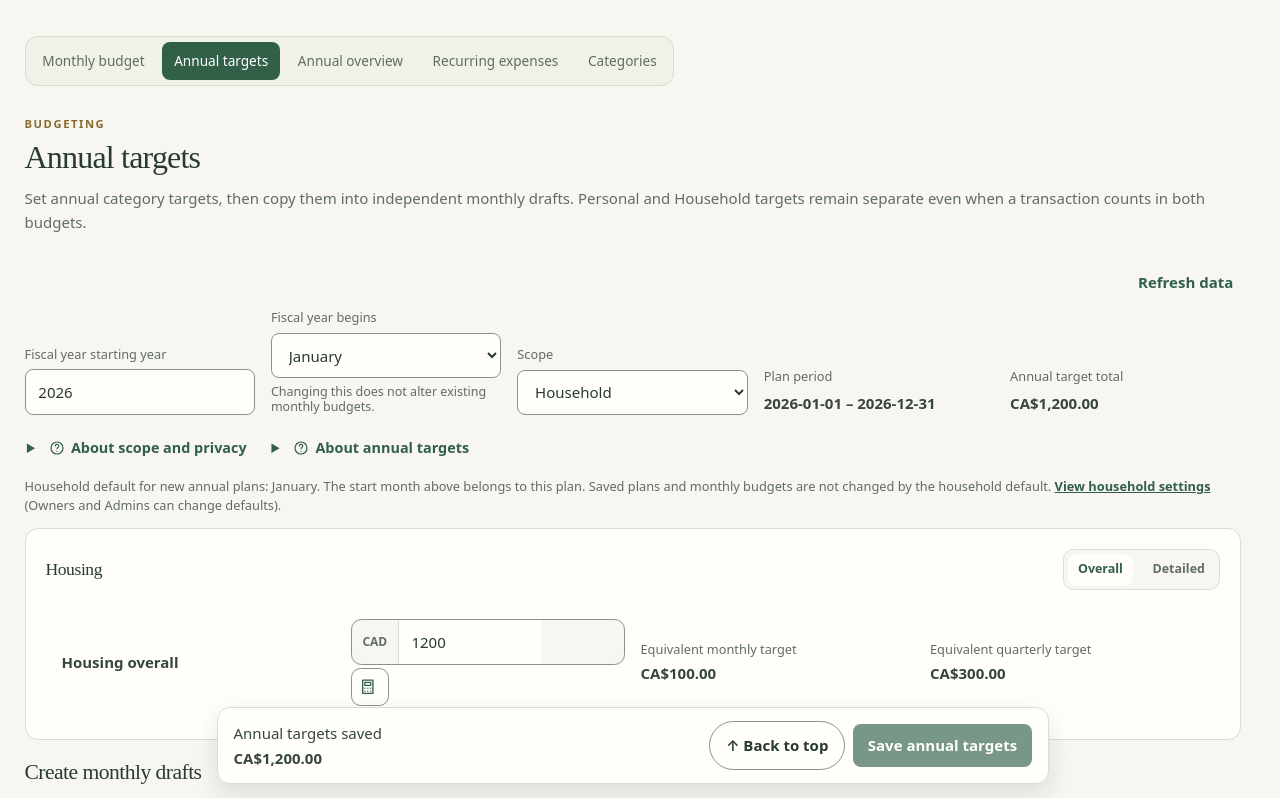
Test case: annual target action placement › releases the annual host when a changed scope fails to load
(page scrolled)
Select "Personal" in the dropdown labelled "Scope" at (632,392), box [517,370,748,415]
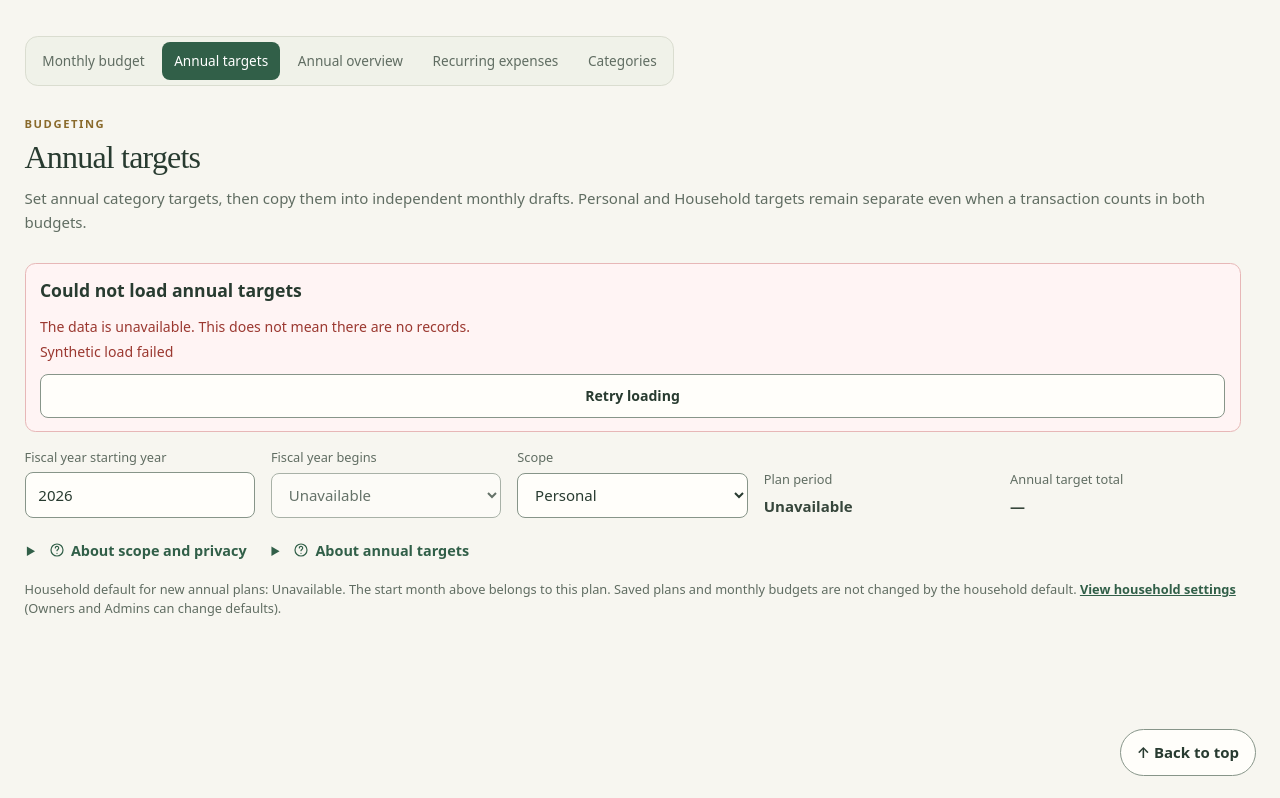
Expected: the heading "Could not load annual targets" is shown, [40,278,302,302]
